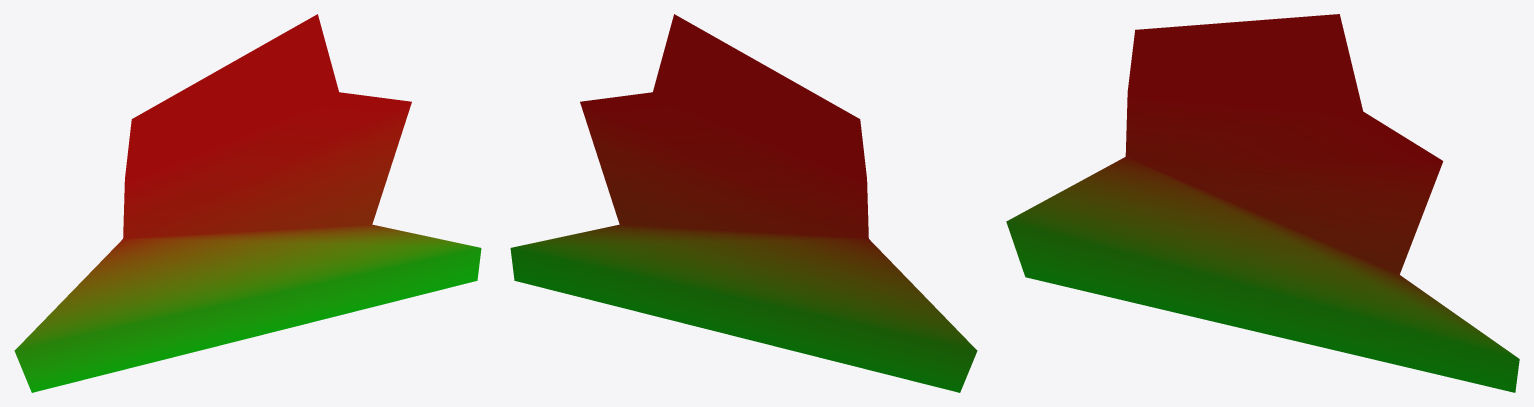
Rendered from Rubber Bush_LOD7_Var12_xffhfekia.fbx.
3 renders of one model, left to right at view 1: azimuth 30°, elevation 25°; view 2: azimuth 150°, elevation 25°; view 3: azimuth 330°, elevation 25°, orthographic. The views are drawn at different scales.
Visible parts, largest first — view 1: _6jwz_Var12_LOD7; view 2: _6jwz_Var12_LOD7; view 3: _6jwz_Var12_LOD7.
Part boxes in pixels (box(x1,y1,x2,y2)): _6jwz_Var12_LOD7: box(14, 14, 481, 392); _6jwz_Var12_LOD7: box(510, 14, 977, 392); _6jwz_Var12_LOD7: box(1006, 14, 1519, 392).
Size of the model in its own units: 175 by 111 by 1.78e-05.
